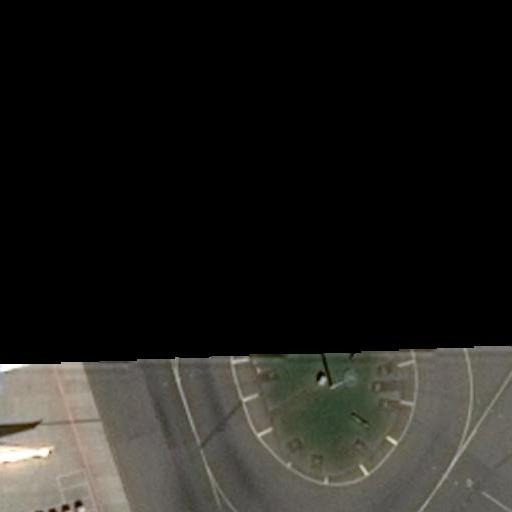Aircraft: (0, 358, 53, 512)
